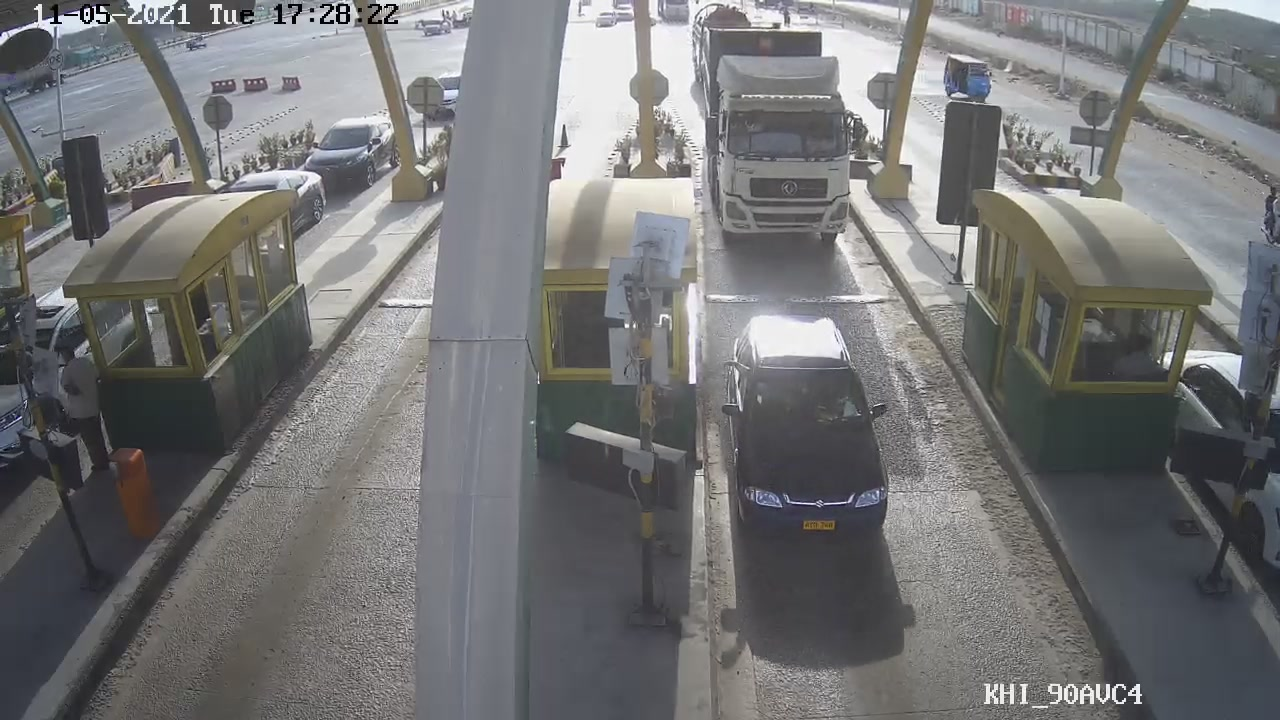F1: (719, 313, 896, 538)
F6: (695, 21, 866, 243)
